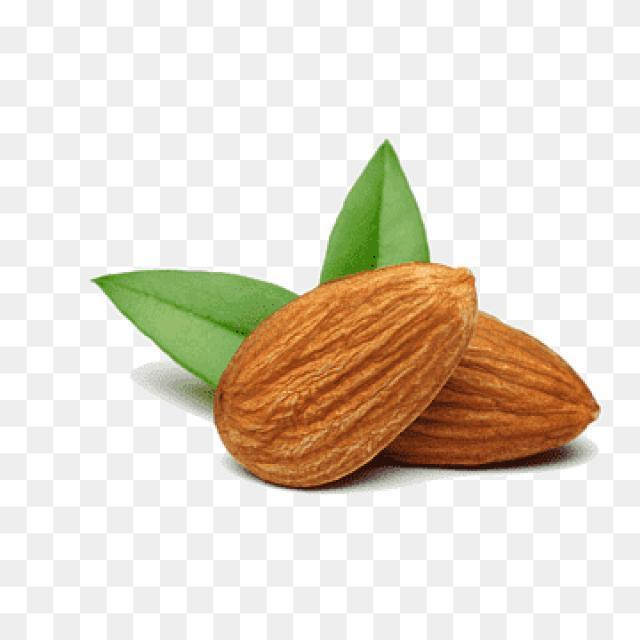almond: (217, 263, 478, 487), (375, 310, 600, 468)
